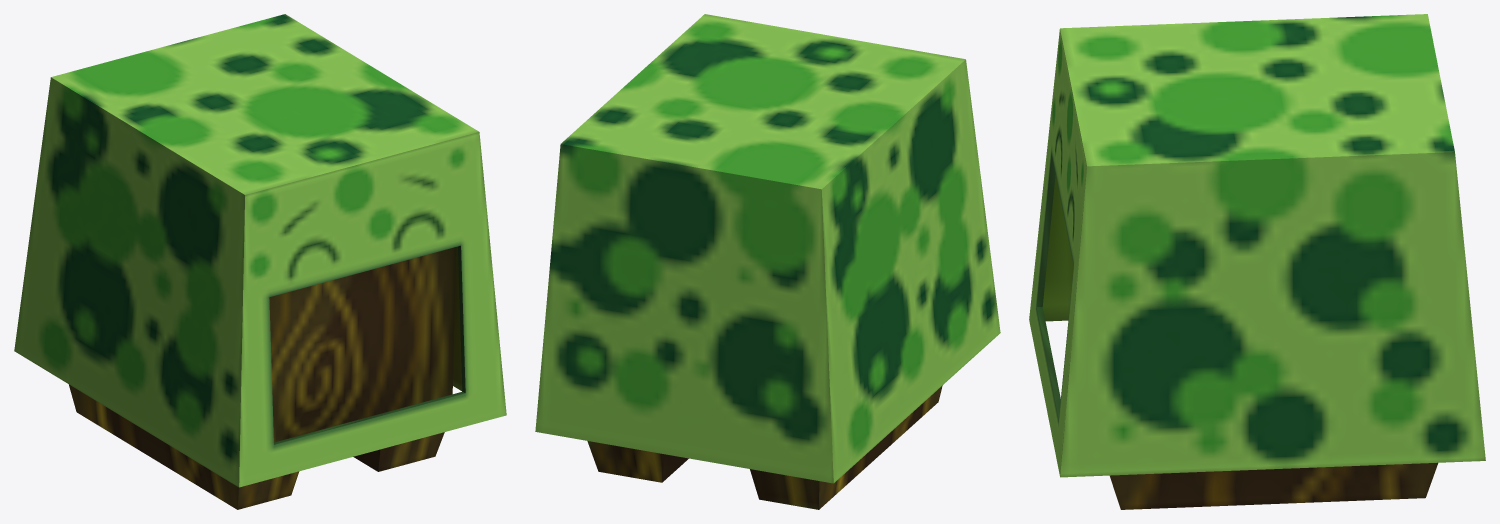
File: treeguy_fbx.fbx
The picture shows the model from 3 angles, left to right: view 1: azimuth 30°, elevation 25°; view 2: azimuth 150°, elevation 25°; view 3: azimuth 270°, elevation 25°; orthographic projection. The views are drawn at different scales.
Visible parts, largest first — view 1: treeguy; view 2: treeguy; view 3: treeguy.
Boxes of the visible parts, box(x1,y1,x2,y2) form: treeguy: box(14, 14, 506, 509); treeguy: box(535, 14, 1000, 509); treeguy: box(1029, 14, 1485, 509).
Bounding box in the file's own units: 10.15 × 10.45 × 11.82.
